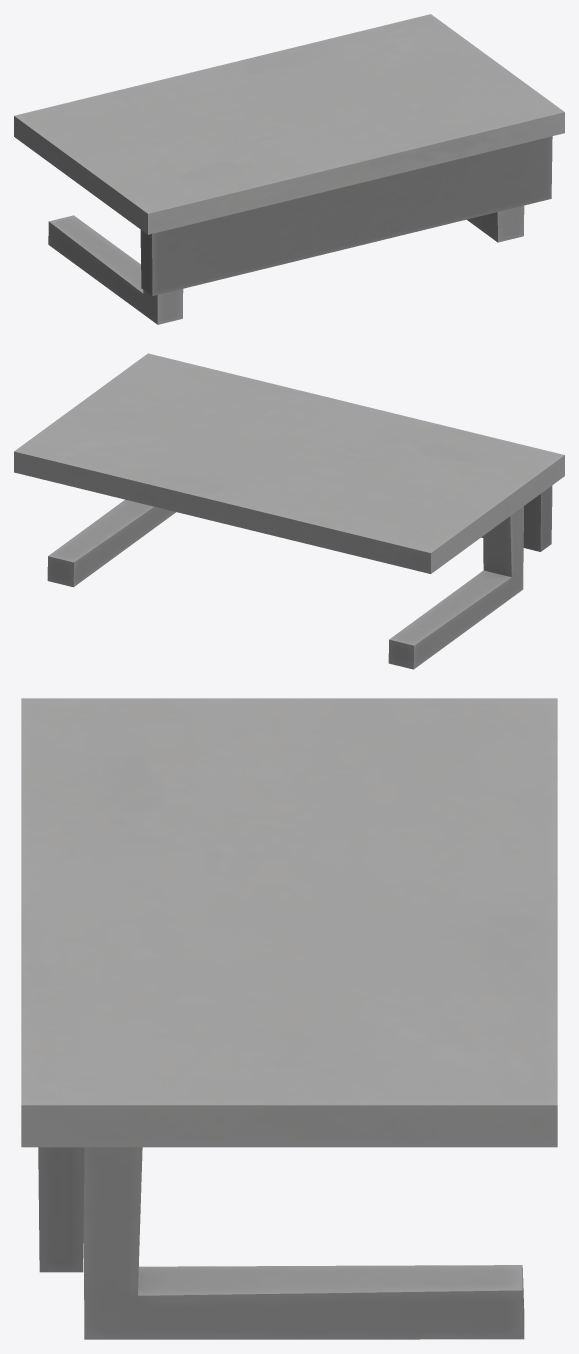
The model's file is Pfb_Table__15.fbx.
The picture shows the model from 3 angles, top to bottom: view 1: azimuth 30°, elevation 25°; view 2: azimuth 150°, elevation 25°; view 3: azimuth 270°, elevation 25°; orthographic projection. The views are drawn at different scales.
Visible parts, largest first — view 1: Mat_Table_01_White; view 2: Mat_Table_01_White; view 3: Mat_Table_01_White.
Boxes of the visible parts, x1,y1,x2,y2 form: Mat_Table_01_White: (14,14,564,324); Mat_Table_01_White: (14,353,564,669); Mat_Table_01_White: (21,698,557,1339).
Bounding box in the file's own units: 2.23 × 0.6604 × 1.24.
1 material, 1 textured.
